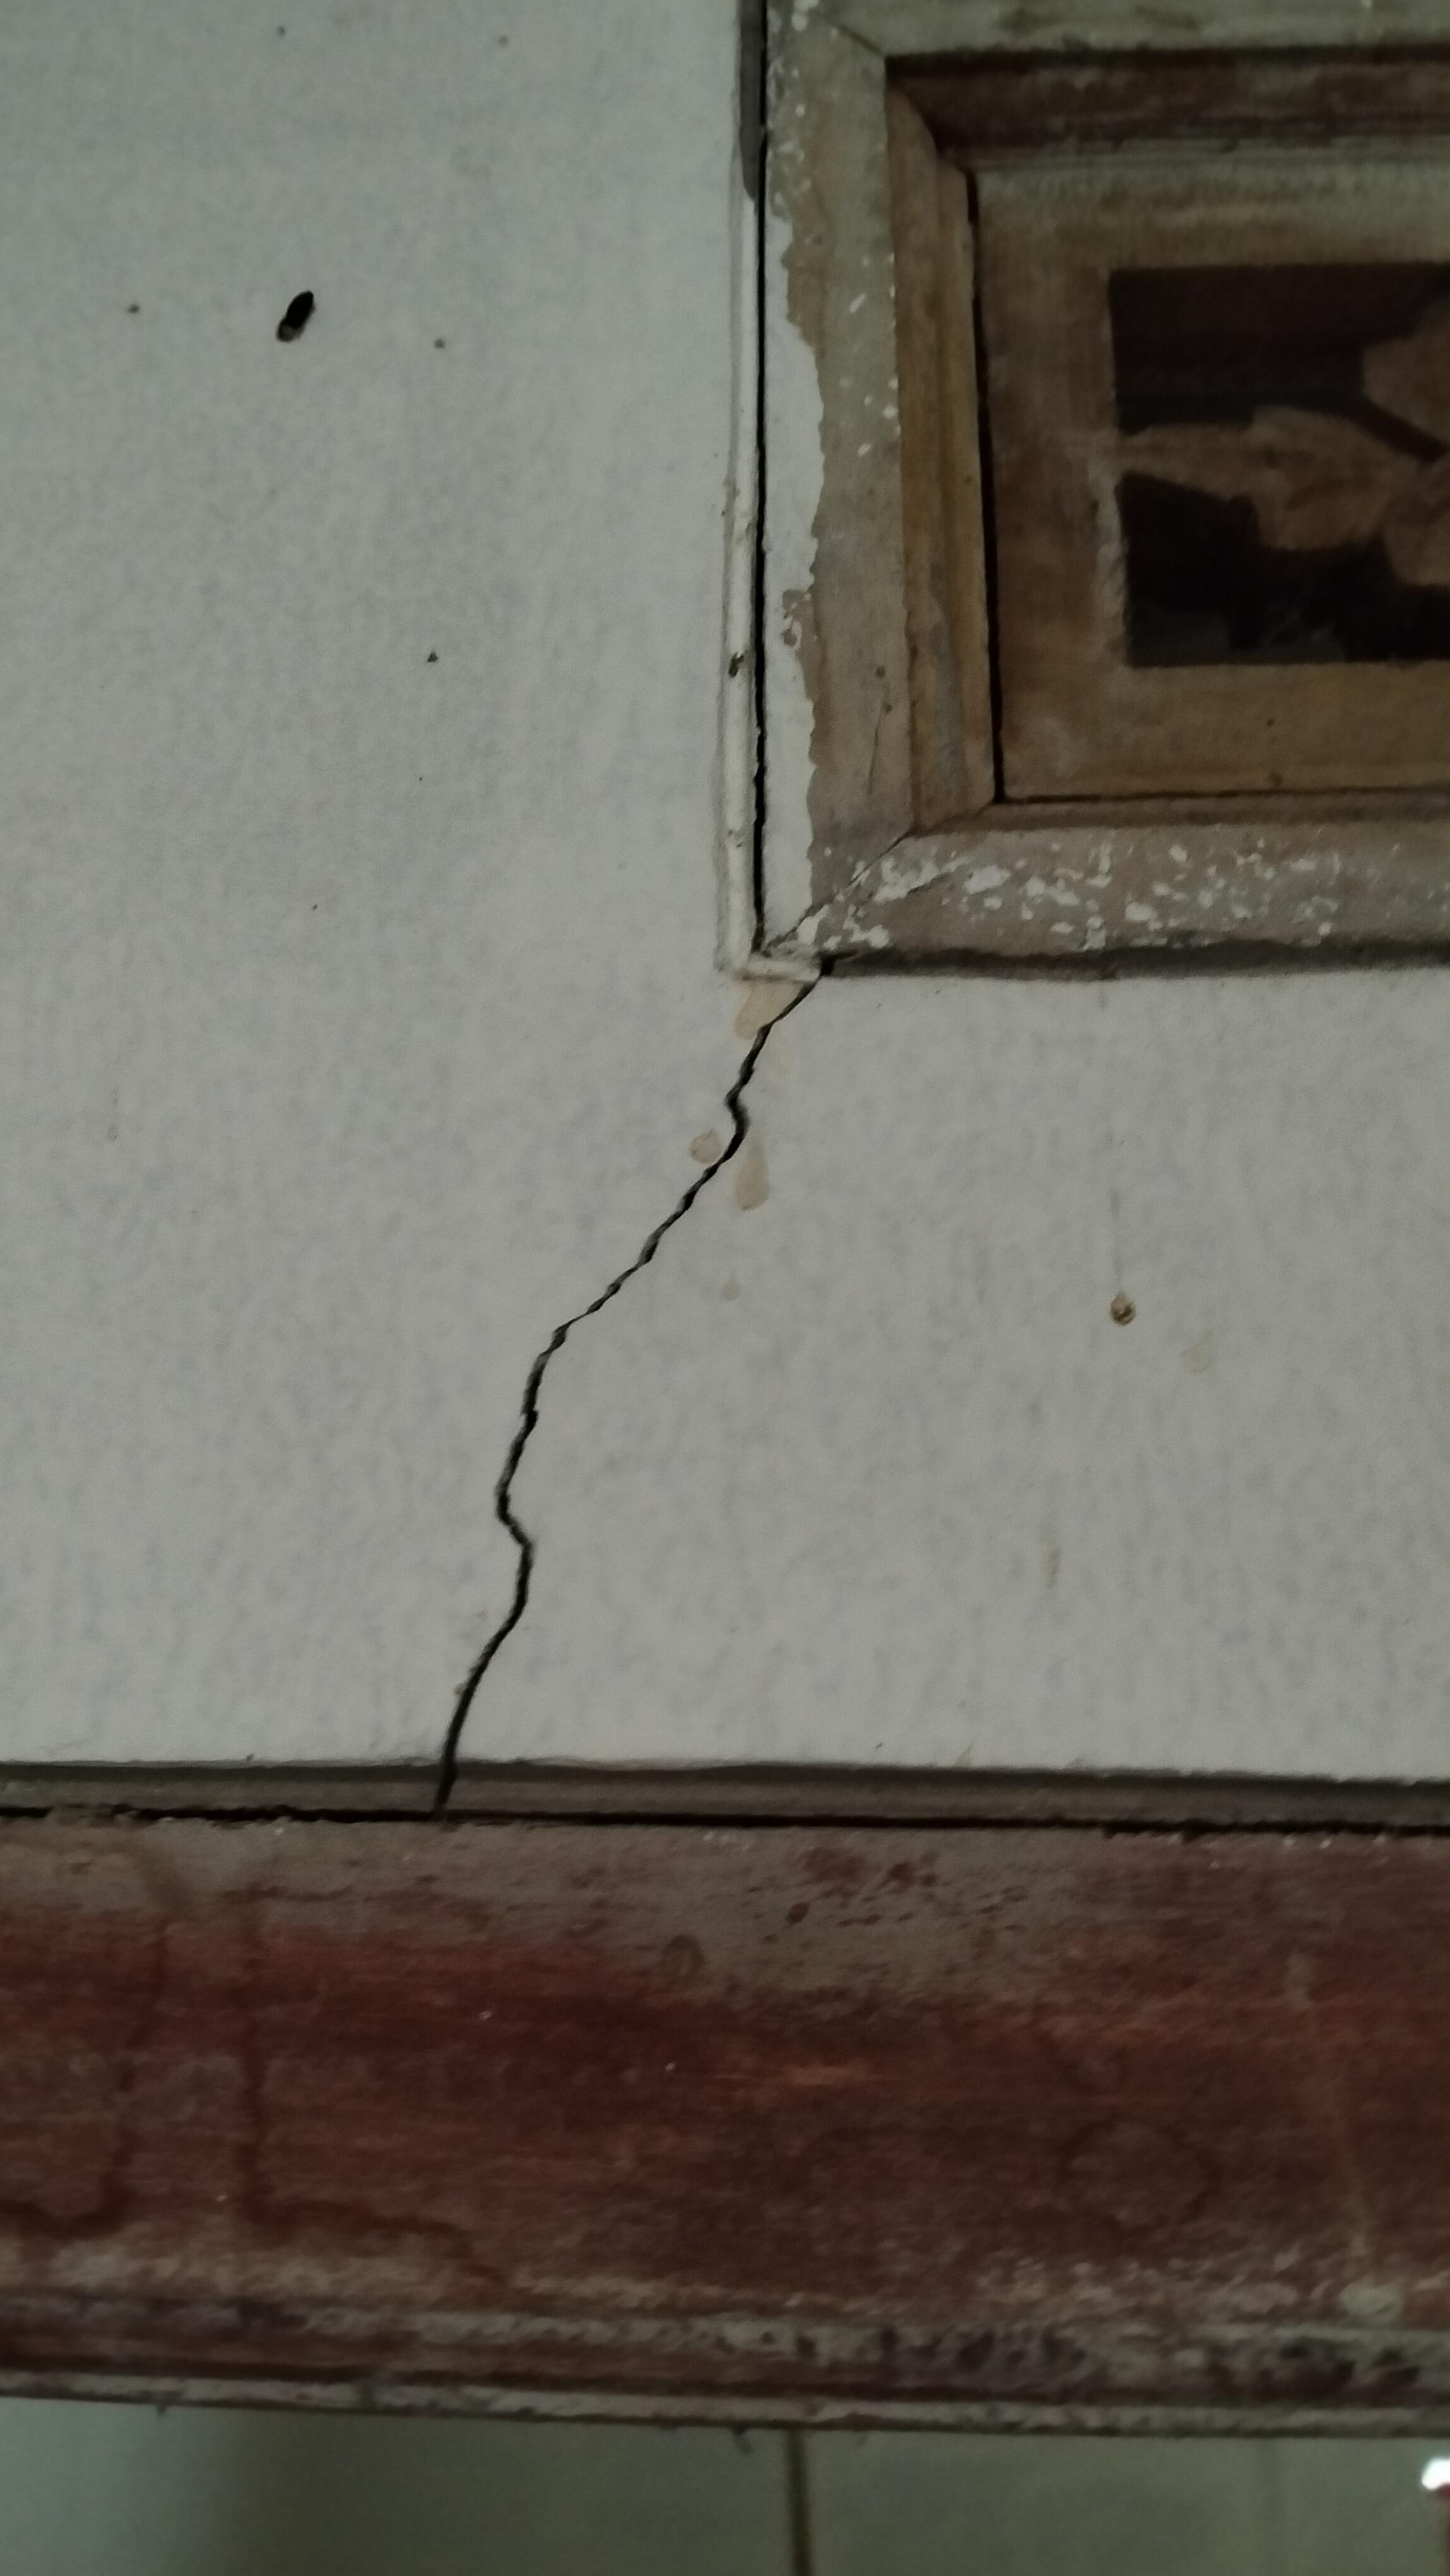Crack: (398, 973, 871, 1831)
